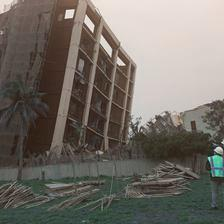Destroyed_Building: (0, 0, 134, 162)
